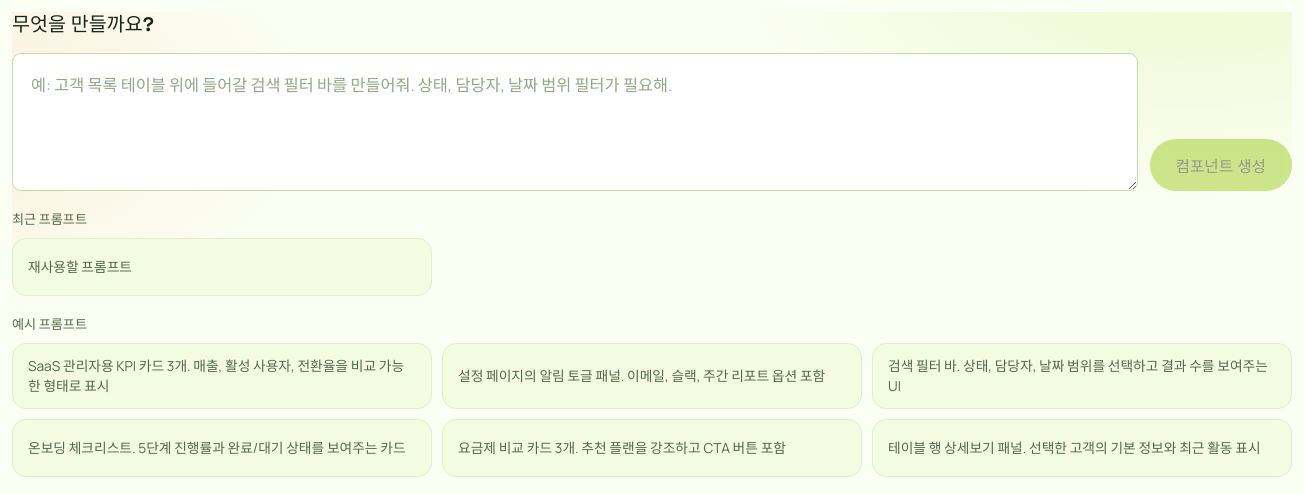
Test: PromptInput › 최근 프롬프트를 클릭하면 textarea에 값이 채워진다
Click the button "재사용할 프롬프트" at [80, 267], box [12,238,432,296]
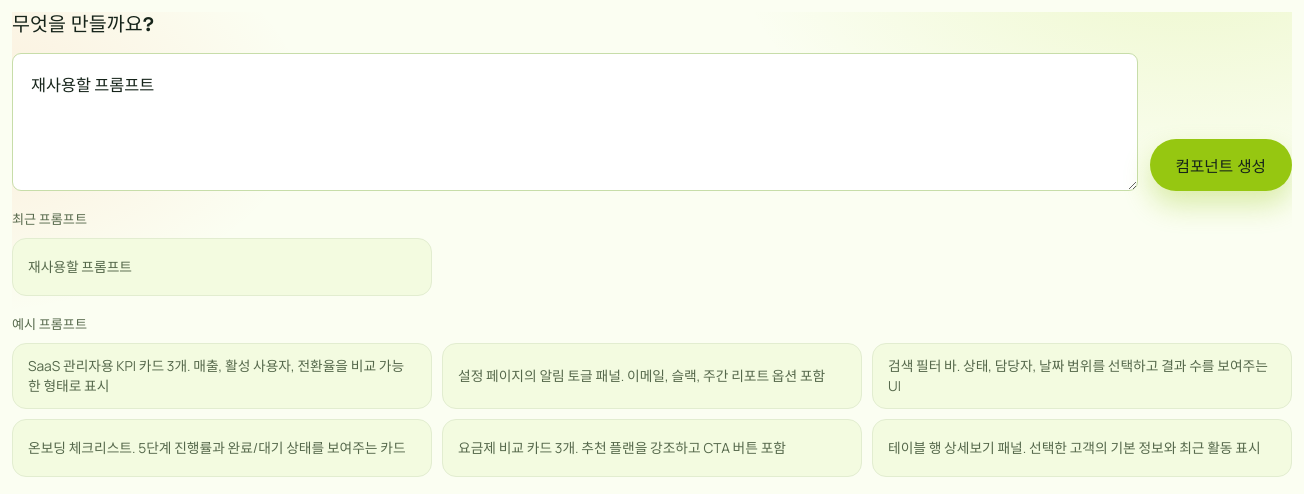
Expected: the text box holds "재사용할 프롬프트", [12,53,1138,191]
